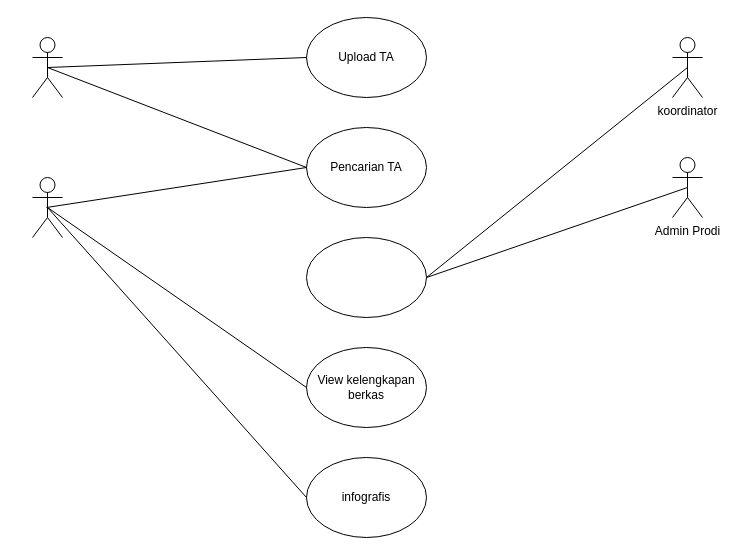
This 737x555 diagram has some shape labels left out. The centre of each missing label's shape, as x and y in pixels:
"acc upload berkas" belongs at [366,277].
"Dosen" belongs at [47,207].
"mahasiswa" belongs at [47,67].
